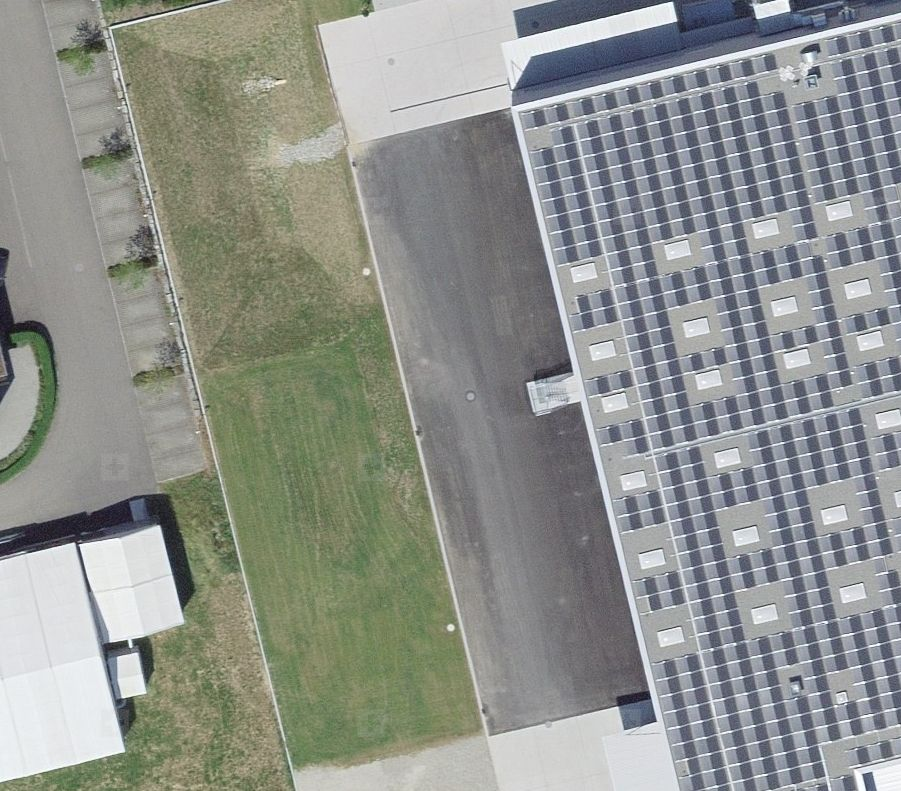solar: (519, 24, 900, 791)
